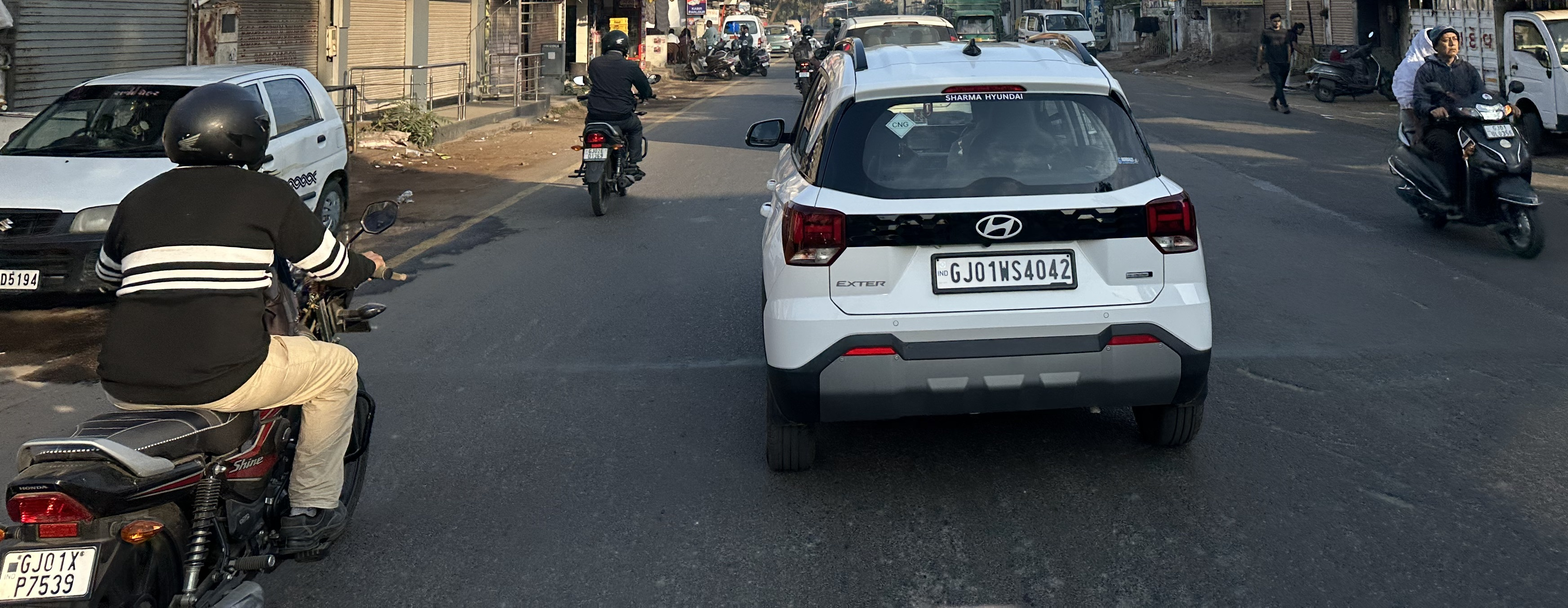BikeWithRider: (0, 44, 441, 607), (1362, 6, 1568, 275), (499, 0, 699, 235)
Helmet: (148, 78, 287, 185), (589, 22, 638, 66)
NoHelmet: (1426, 23, 1465, 58), (1407, 23, 1435, 57)
